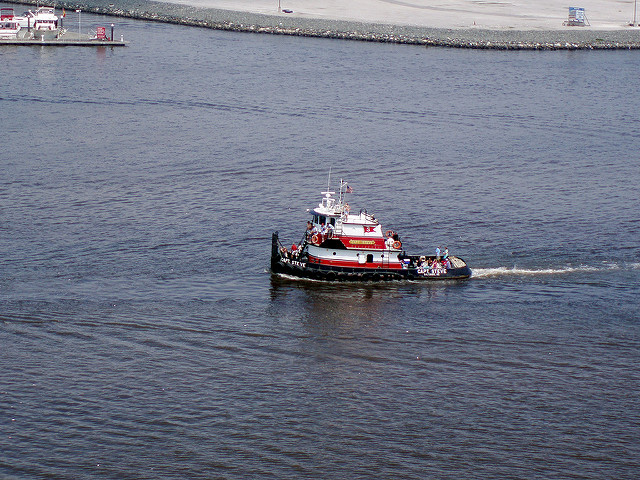tug_boat: (259, 181, 477, 292)
